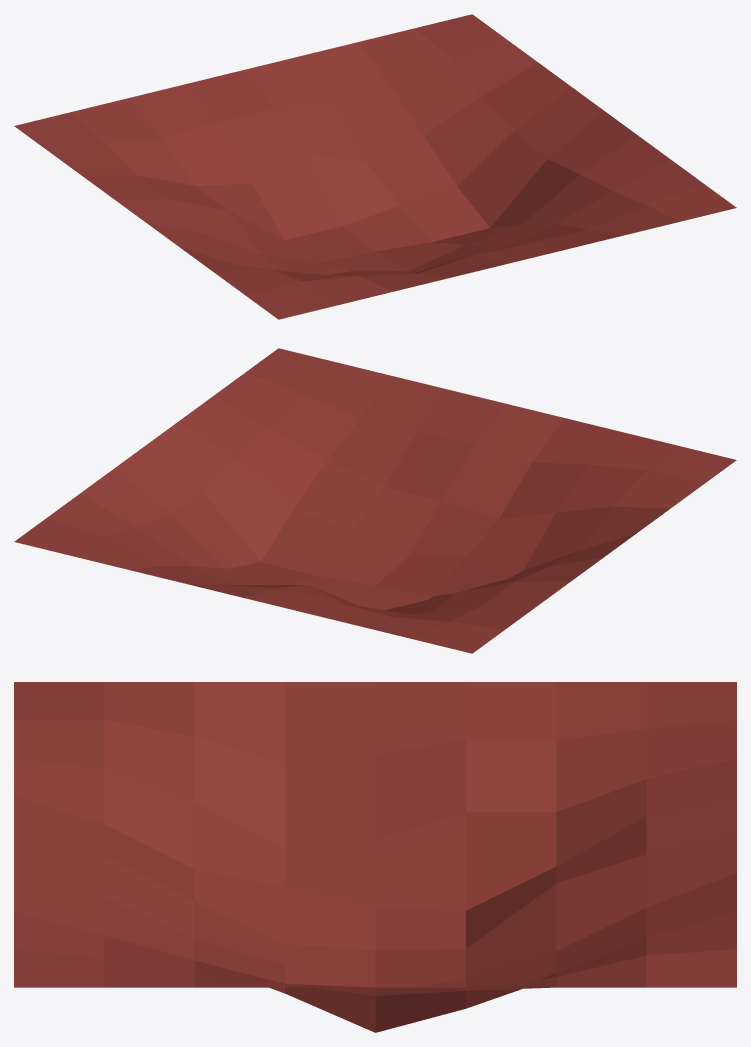
The model's file is Terrain_17_Red.fbx.
The picture shows the model from 3 angles, top to bottom: view 1: azimuth 30°, elevation 25°; view 2: azimuth 150°, elevation 25°; view 3: azimuth 270°, elevation 25°; orthographic projection. The views are drawn at different scales.
Parts seen in each view (by area): view 1: Terrain_17_Red; view 2: Terrain_17_Red; view 3: Terrain_17_Red.
Part boxes in pixels (x1,y1,x2,y2): Terrain_17_Red: [14, 14, 736, 319]; Terrain_17_Red: [14, 348, 736, 653]; Terrain_17_Red: [14, 682, 736, 1032].
Bounding box in the file's own units: 7000 × 1300 × 7000.
